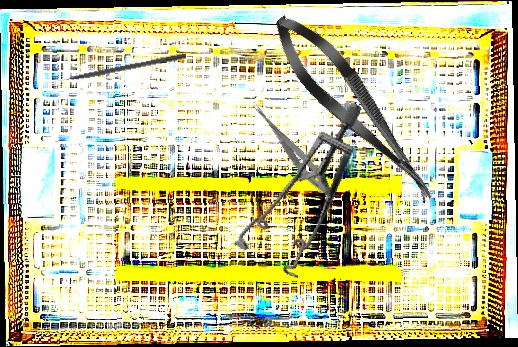Micro Scissor: (261, 3, 449, 214), (246, 100, 336, 199)
Pusher: (48, 51, 187, 86)
Speculum: (200, 99, 416, 297)
